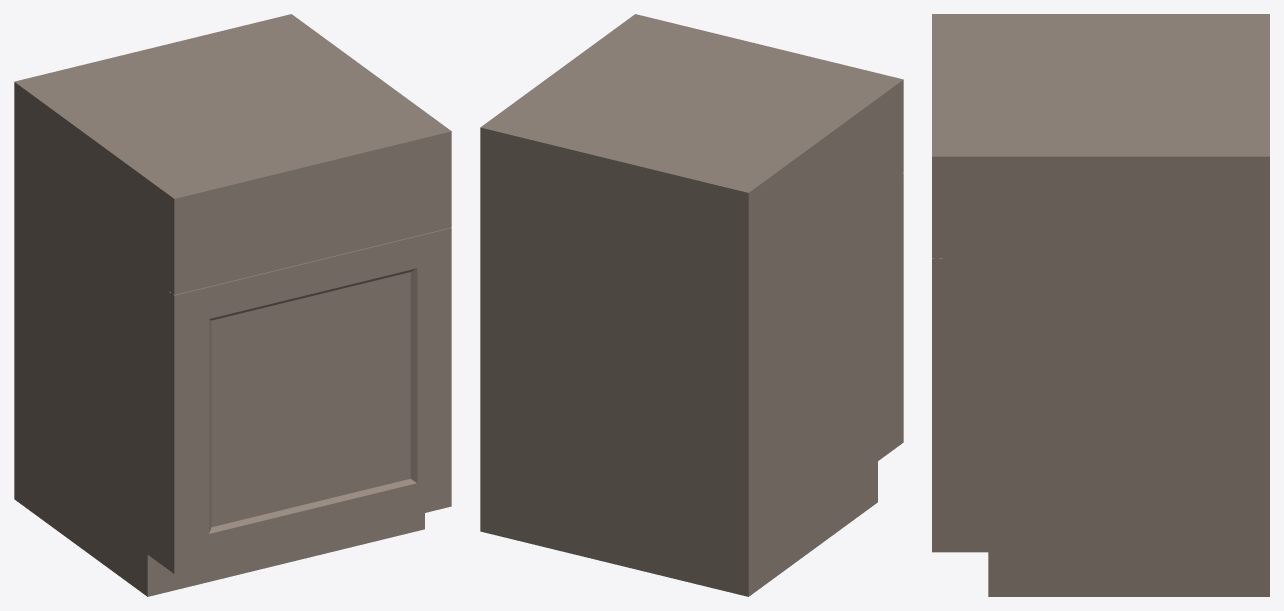
The model's file is Base-Cabinet-Single-Door_W24in_1D.glb.
The picture shows the model from 3 angles, left to right: view 1: azimuth 30°, elevation 25°; view 2: azimuth 150°, elevation 25°; view 3: azimuth 270°, elevation 25°; orthographic projection. The views are drawn at different scales.
Visible parts, largest first — view 1: Base-Cabinet-Single-Door_W24in_1D; view 2: Base-Cabinet-Single-Door_W24in_1D; view 3: Base-Cabinet-Single-Door_W24in_1D.
Part boxes in pixels (<box>): Base-Cabinet-Single-Door_W24in_1D: <box>14,14,451,596</box>; Base-Cabinet-Single-Door_W24in_1D: <box>480,14,903,596</box>; Base-Cabinet-Single-Door_W24in_1D: <box>932,14,1269,596</box>.
Size of the model in its own units: 0.6096 by 0.8769 by 0.61.
